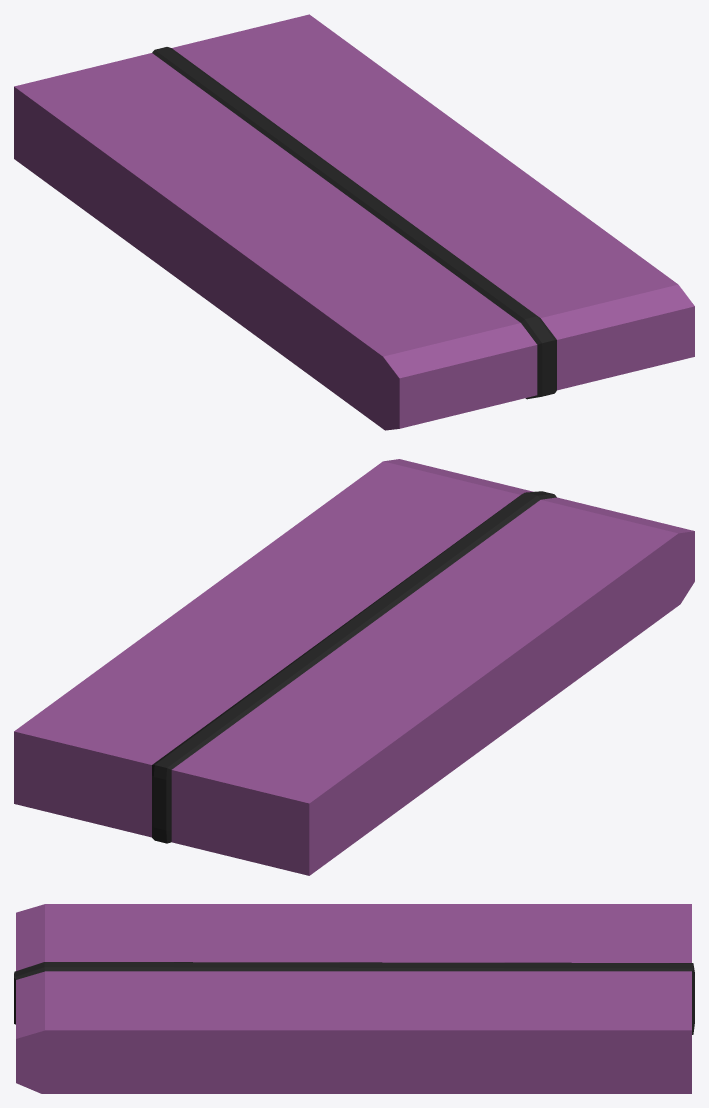
The model's file is BasePlatform.fbx.
The picture shows the model from 3 angles, top to bottom: view 1: azimuth 30°, elevation 25°; view 2: azimuth 150°, elevation 25°; view 3: azimuth 270°, elevation 25°; orthographic projection. The views are drawn at different scales.
Parts seen in each view (by area): view 1: pCube10; view 2: pCube10; view 3: pCube10.
Boxes of the visible parts, x1,y1,x2,y2 form: pCube10: (14, 14, 694, 430); pCube10: (14, 459, 694, 875); pCube10: (14, 904, 694, 1093).
Size of the model in its own units: 1.83 by 0.4633 by 4.16.
